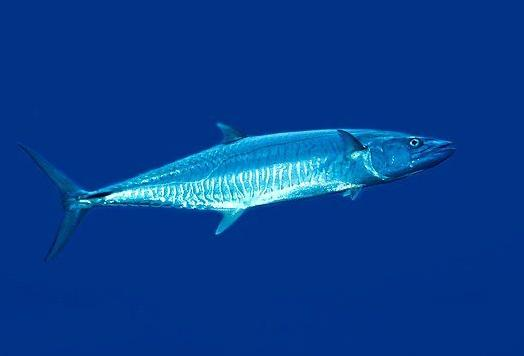Scombridae -Tunas-: (11, 119, 463, 262)
